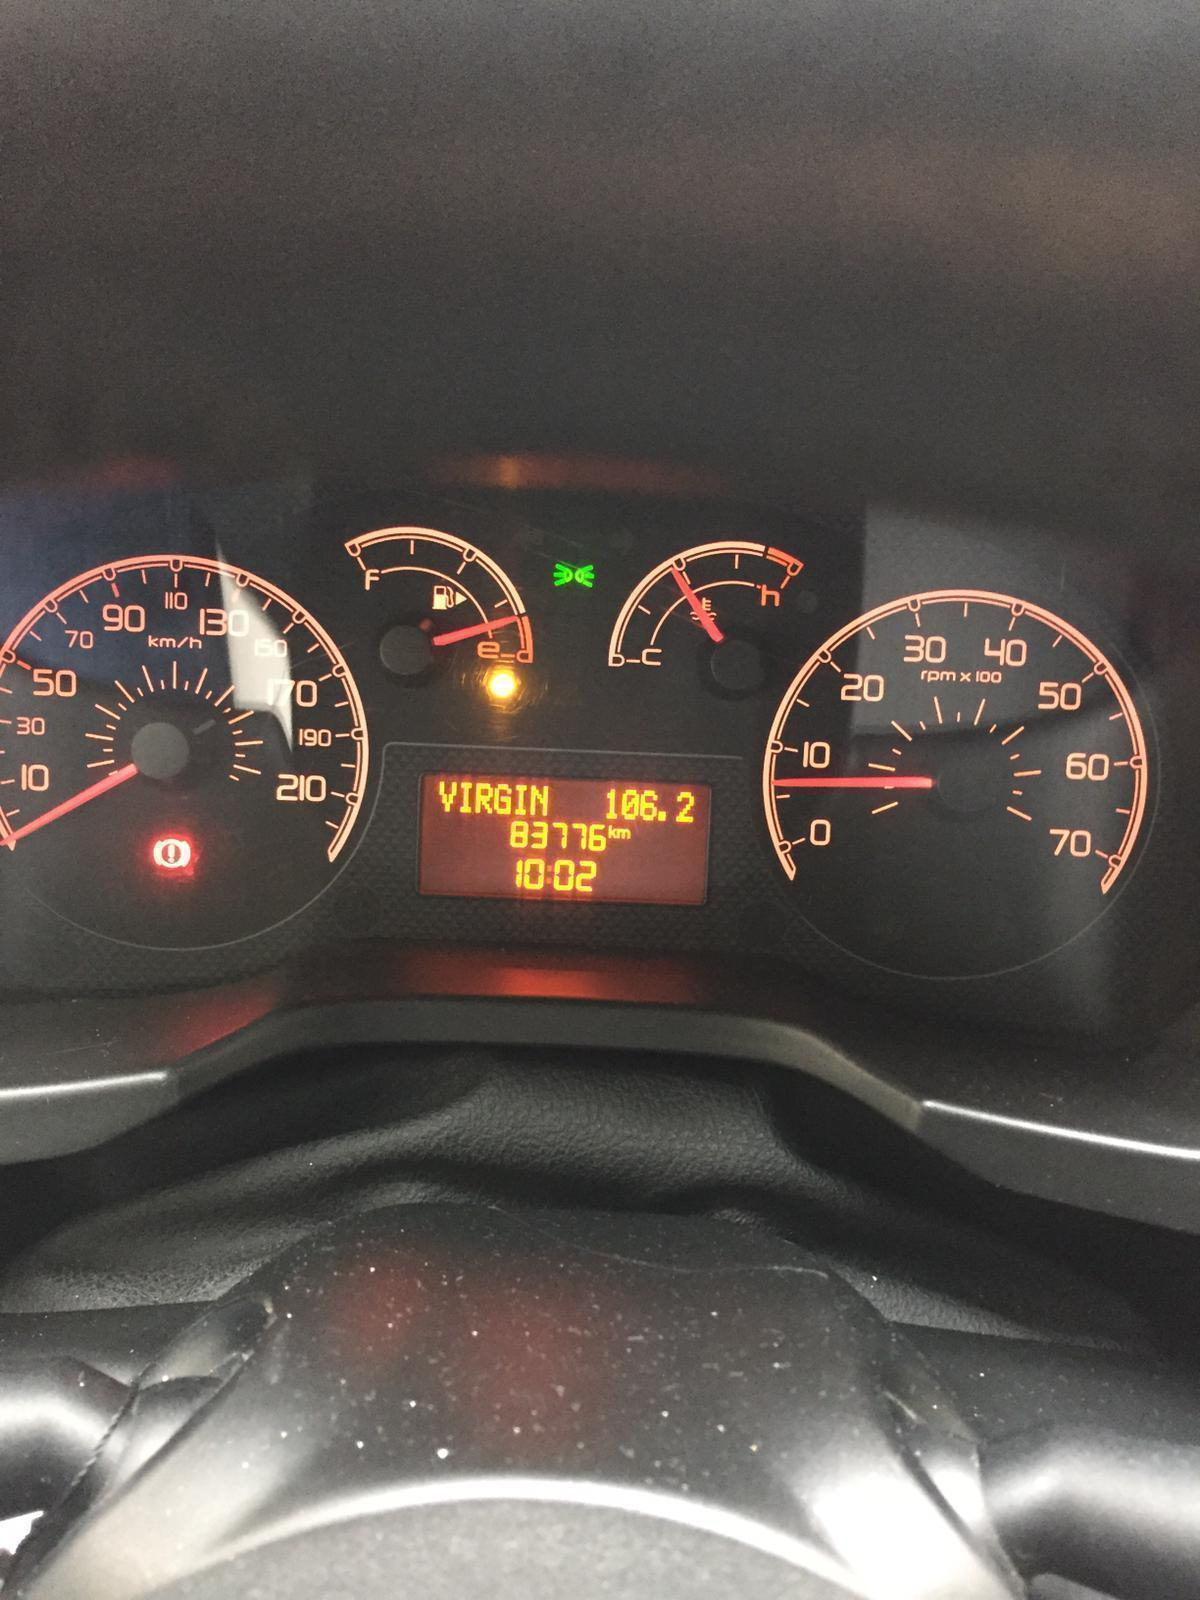,: (657, 809, 666, 823)
0: (523, 855, 545, 891), (555, 855, 574, 893), (620, 787, 640, 821)
1: (603, 785, 620, 821), (511, 858, 523, 889)
2: (672, 789, 697, 825), (575, 858, 597, 893)
3: (529, 821, 548, 850)
6: (640, 787, 658, 823), (589, 821, 606, 853)
7: (550, 820, 568, 850), (570, 821, 587, 852)
8: (505, 819, 529, 849)
X: (527, 781, 550, 818), (436, 779, 458, 813), (475, 779, 493, 816), (493, 781, 512, 815), (512, 781, 527, 816), (458, 779, 473, 814), (545, 862, 555, 888), (615, 826, 632, 842), (608, 821, 615, 839)
odometer: (406, 762, 721, 913)
